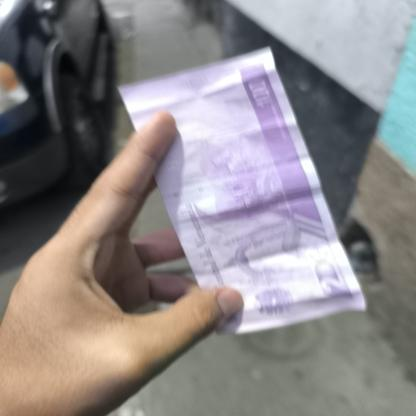one_hundred-back-vef: (116, 45, 366, 336)
